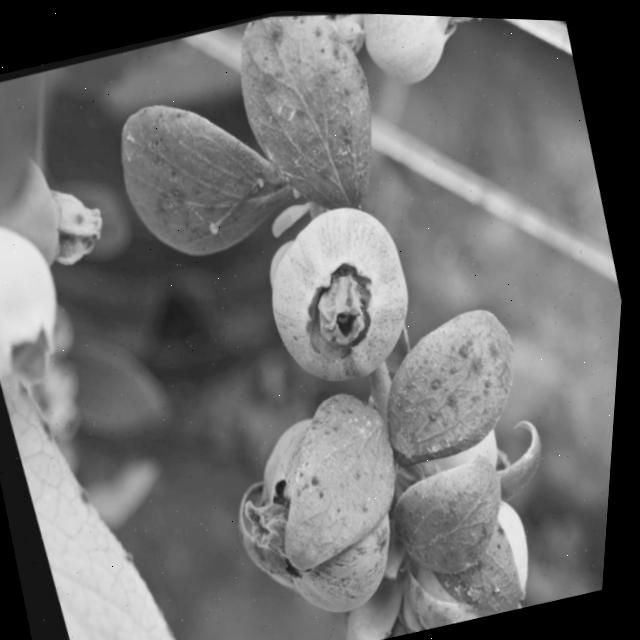Semi-RipeBlueBerry: (221, 168, 458, 415)
